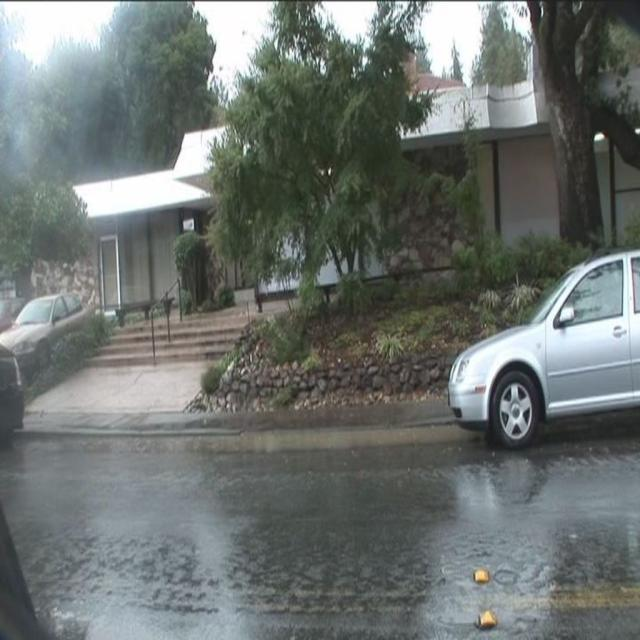car: (0, 288, 96, 368)
